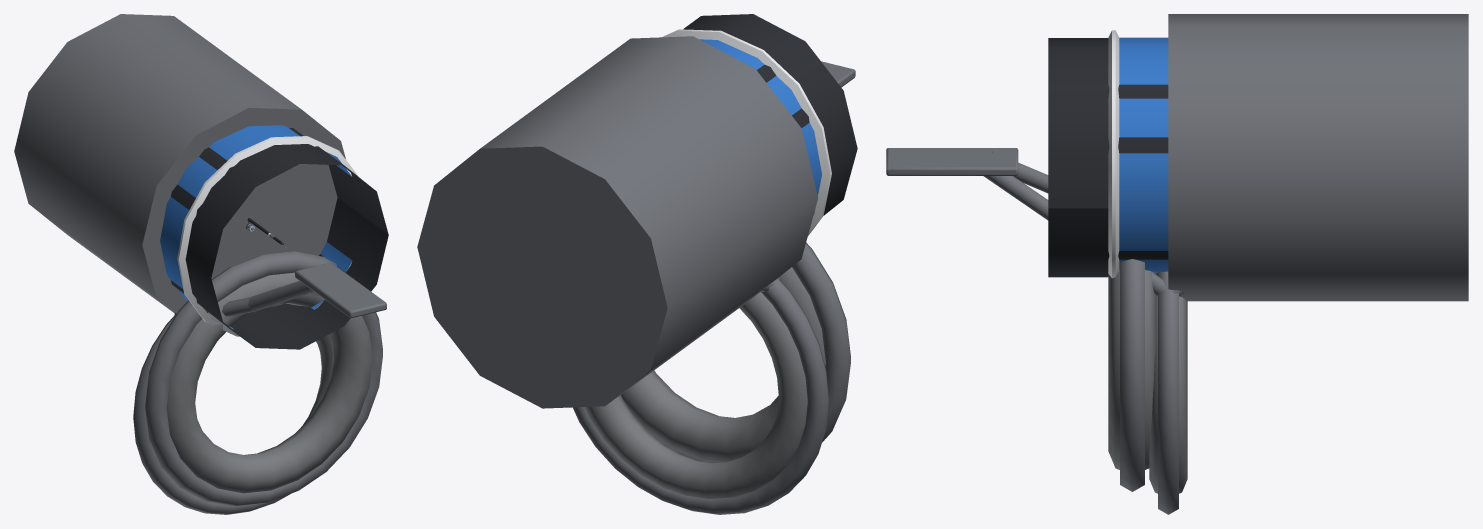
Rendered from rodkit.glb.
3 renders of one model, left to right at view 1: azimuth 30°, elevation 25°; view 2: azimuth 150°, elevation 25°; view 3: azimuth 270°, elevation 25°, orthographic. The views are drawn at different scales.
Parts seen in each view (by area): view 1: tiptop_tube, blank, tiptop_insert, tiptop_frame, wrap_thread, guide_frame, wrap_edgeB, guide_foot1, guide_leg1-1b, guide_insert, guide_leg1-1a; view 2: tiptop_tube, guide_insert, guide_frame, tiptop_insert, blank, tiptop_frame, wrap_edgeB, wrap_thread; view 3: tiptop_tube, blank, wrap_thread, tiptop_frame, guide_frame, tiptop_insert, guide_foot1, wrap_edgeB, guide_insert, guide_leg11b.
Part boxes in pixels (bbox=[...]): tiptop_tube: bbox=[14, 14, 345, 313]; blank: bbox=[170, 128, 388, 349]; tiptop_insert: bbox=[166, 272, 372, 493]; tiptop_frame: bbox=[145, 251, 382, 506]; wrap_thread: bbox=[160, 125, 352, 328]; guide_frame: bbox=[133, 315, 289, 514]; wrap_edgeB: bbox=[177, 136, 358, 336]; guide_foot1: bbox=[295, 262, 386, 318]; guide_leg1-1b: bbox=[248, 276, 314, 311]; guide_insert: bbox=[247, 303, 332, 424]; guide_leg1-1a: bbox=[222, 297, 255, 316]; tiptop_tube: bbox=[417, 36, 818, 408]; guide_insert: bbox=[585, 292, 807, 498]; guide_frame: bbox=[572, 279, 828, 514]; tiptop_insert: bbox=[621, 267, 825, 462]; blank: bbox=[683, 14, 857, 215]; tiptop_frame: bbox=[648, 242, 850, 462]; wrap_edgeB: bbox=[662, 29, 831, 235]; wrap_thread: bbox=[699, 39, 821, 214]; tiptop_tube: bbox=[1168, 14, 1468, 301]; blank: bbox=[1048, 38, 1168, 277]; wrap_thread: bbox=[1119, 37, 1168, 273]; tiptop_frame: bbox=[1120, 259, 1144, 491]; guide_frame: bbox=[1158, 271, 1178, 514]; tiptop_insert: bbox=[1108, 270, 1156, 469]; guide_foot1: bbox=[886, 148, 1018, 175]; wrap_edgeB: bbox=[1108, 30, 1119, 278]; guide_insert: bbox=[1149, 296, 1187, 493]; guide_leg11b: bbox=[983, 162, 1048, 220].
Bounding box in the file's own units: 2.68 × 4.35 × 4.85.
